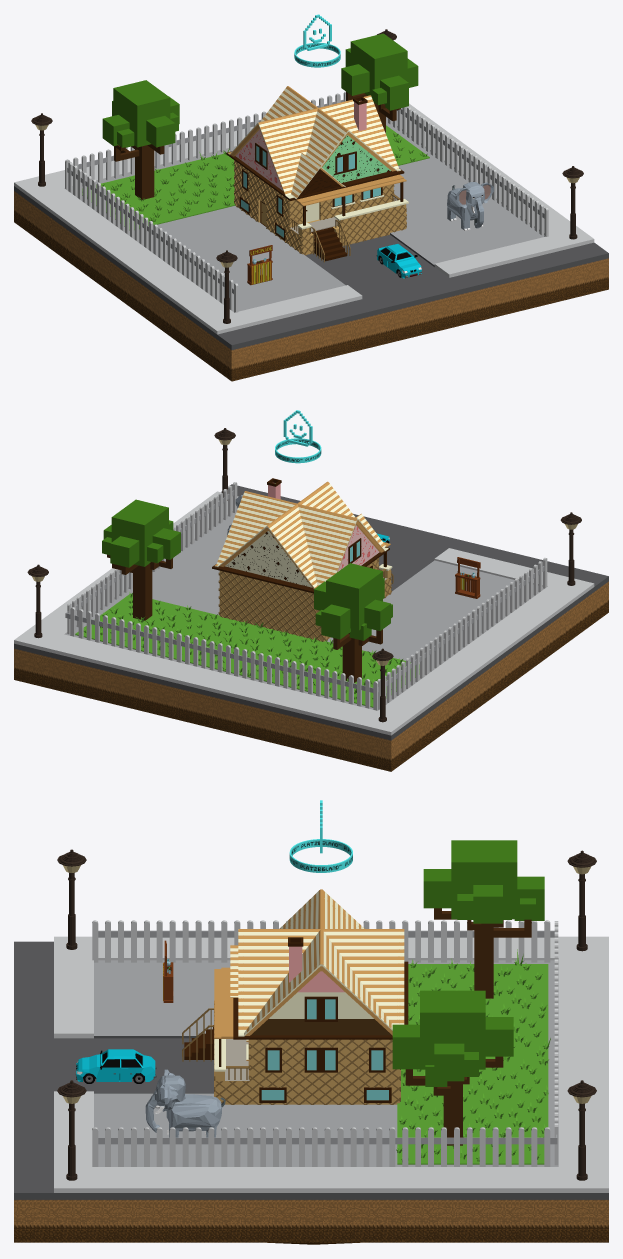
3 renders of one model, top to bottom at view 1: azimuth 30°, elevation 25°; view 2: azimuth 150°, elevation 25°; view 3: azimuth 270°, elevation 25°, orthographic. The views are drawn at different scales.
Visible parts, largest first — view 1: Cube.004, Cube.1102, ANIMAL_ELEFANTE, VEHICLES_CAR, TYPE_PREMIUM, OBJRANDOM_LEMONADE_STAND; view 2: Cube.004, Cube.1102, TYPE_PREMIUM, OBJRANDOM_LEMONADE_STAND; view 3: Cube.004, Cube.1102, ANIMAL_ELEFANTE, VEHICLES_CAR, TYPE_PREMIUM.
Part boxes in pixels (<box>): Cube.004: <box>14,29,608,381</box>; Cube.1102: <box>226,86,408,262</box>; ANIMAL_ELEFANTE: <box>447,182,493,230</box>; VEHICLES_CAR: <box>376,244,421,278</box>; TYPE_PREMIUM: <box>294,14,340,67</box>; OBJRANDOM_LEMONADE_STAND: <box>247,245,272,285</box>; Cube.004: <box>14,428,608,771</box>; Cube.1102: <box>212,478,393,641</box>; TYPE_PREMIUM: <box>275,410,321,463</box>; OBJRANDOM_LEMONADE_STAND: <box>455,557,480,598</box>; Cube.004: <box>14,840,608,1242</box>; Cube.1102: <box>182,889,408,1104</box>; ANIMAL_ELEFANTE: <box>145,1069,225,1137</box>; VEHICLES_CAR: <box>75,1049,156,1083</box>; TYPE_PREMIUM: <box>289,800,352,872</box>.
Size of the model in its own units: 4000 by 2533 by 4000.
Materials: 42 (5 with a texture image).
